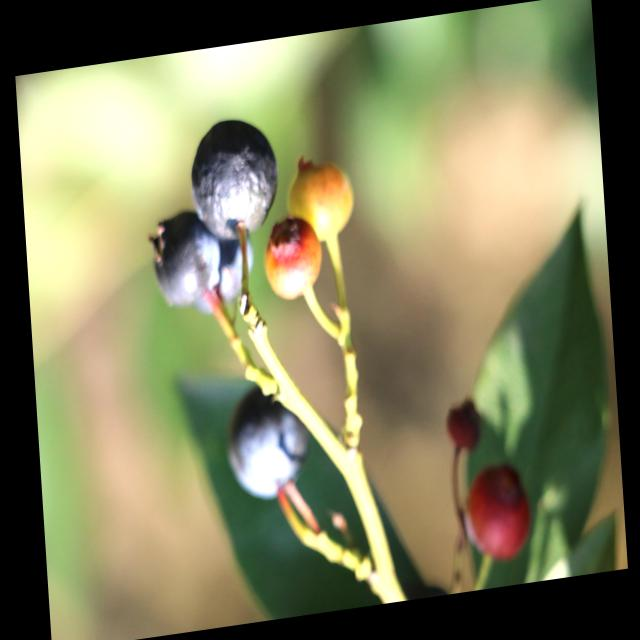blueberry: (180, 110, 281, 242), (224, 383, 311, 508), (147, 207, 220, 308), (185, 237, 258, 319)
blueberry-halfripe: (463, 466, 534, 564), (283, 158, 362, 246), (263, 216, 327, 308)
